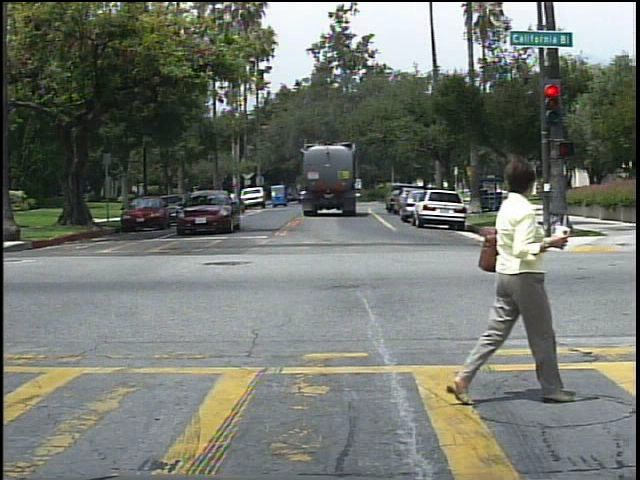person: (455, 137, 575, 410), (512, 180, 526, 199)
